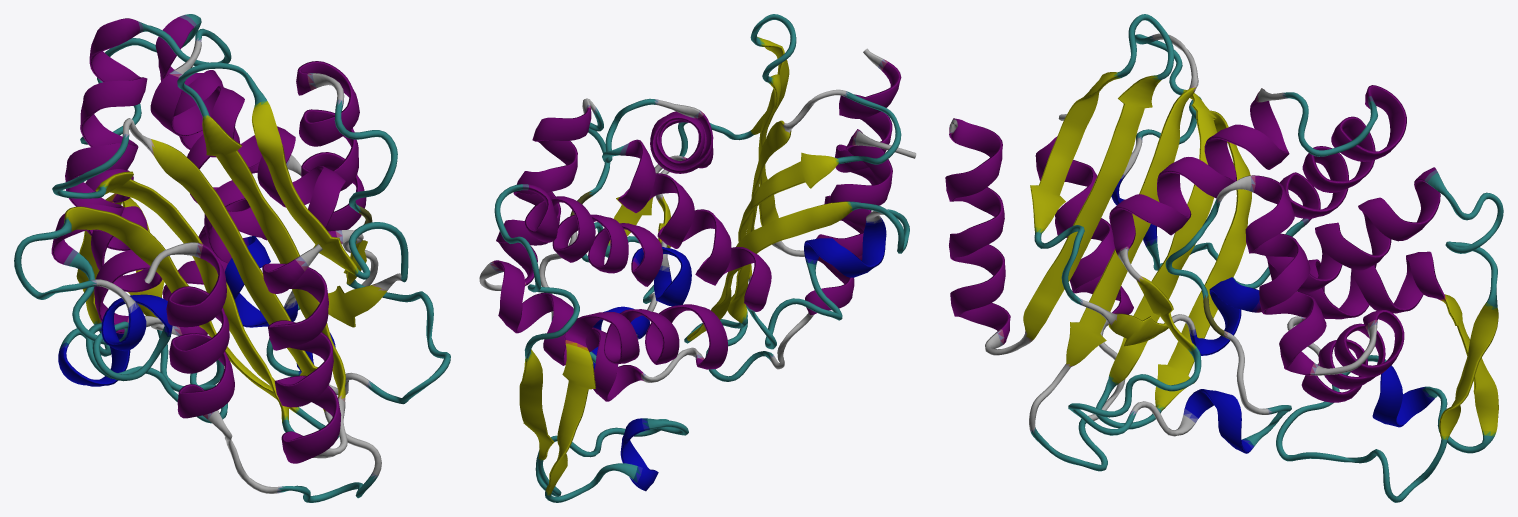
The model's file is animate.0009.obj.
3 views of the same model, side by side, from view 1: azimuth 30°, elevation 25°; view 2: azimuth 150°, elevation 25°; view 3: azimuth 270°, elevation 25° (orthographic). The views are drawn at different scales.
Parts seen in each view (by area): view 1: vmd_mol0_rep0; view 2: vmd_mol0_rep0; view 3: vmd_mol0_rep0.
Boxes of the visible parts, x1,y1,x2,y2 form: vmd_mol0_rep0: (14, 14, 450, 502); vmd_mol0_rep0: (479, 14, 916, 502); vmd_mol0_rep0: (945, 14, 1503, 502).
Bounding box in the file's own units: 1.02 × 1.12 × 1.32.
